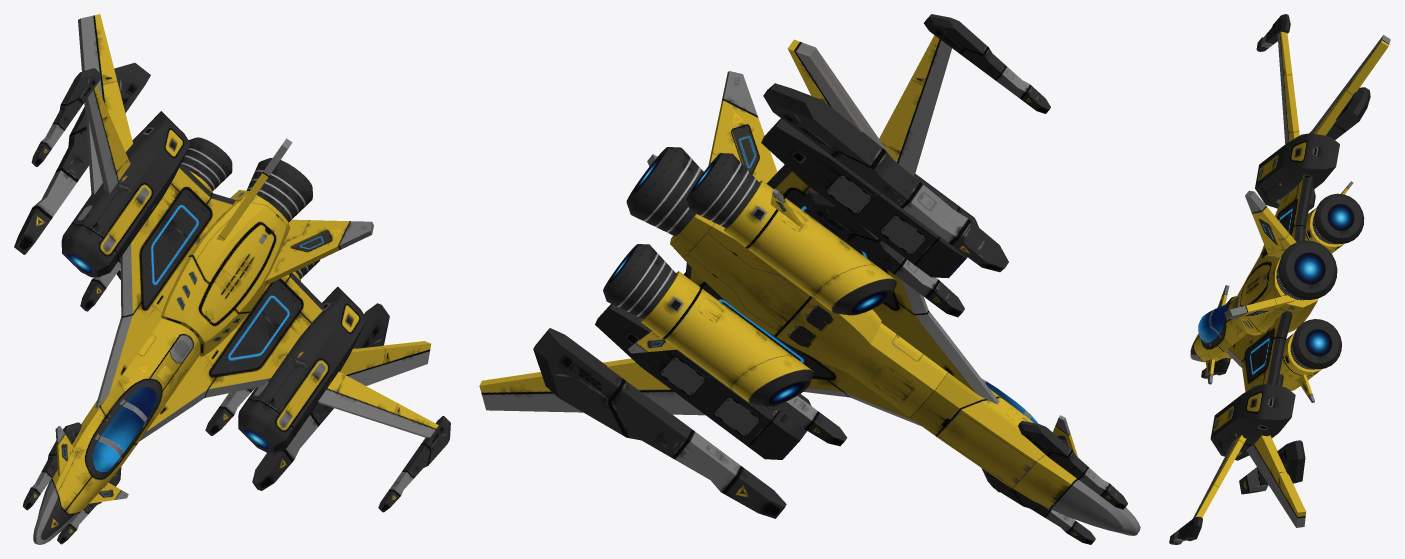
File: StarSparrowGLB.glb
3 renders of one model, left to right at view 1: azimuth 30°, elevation 25°; view 2: azimuth 150°, elevation 25°; view 3: azimuth 270°, elevation 25°, orthographic. The views are drawn at different scales.
Parts seen in each view (by area): view 1: StarSparrow1; view 2: StarSparrow1; view 3: StarSparrow1.
Part boxes in pixels (box(x1,y1,x2,y2)): StarSparrow1: box(14, 14, 450, 544); StarSparrow1: box(479, 14, 1140, 544); StarSparrow1: box(1169, 14, 1390, 544).
Bounding box in the file's own units: 11.98 × 11.55 × 5.45.
1 material, 1 textured.
